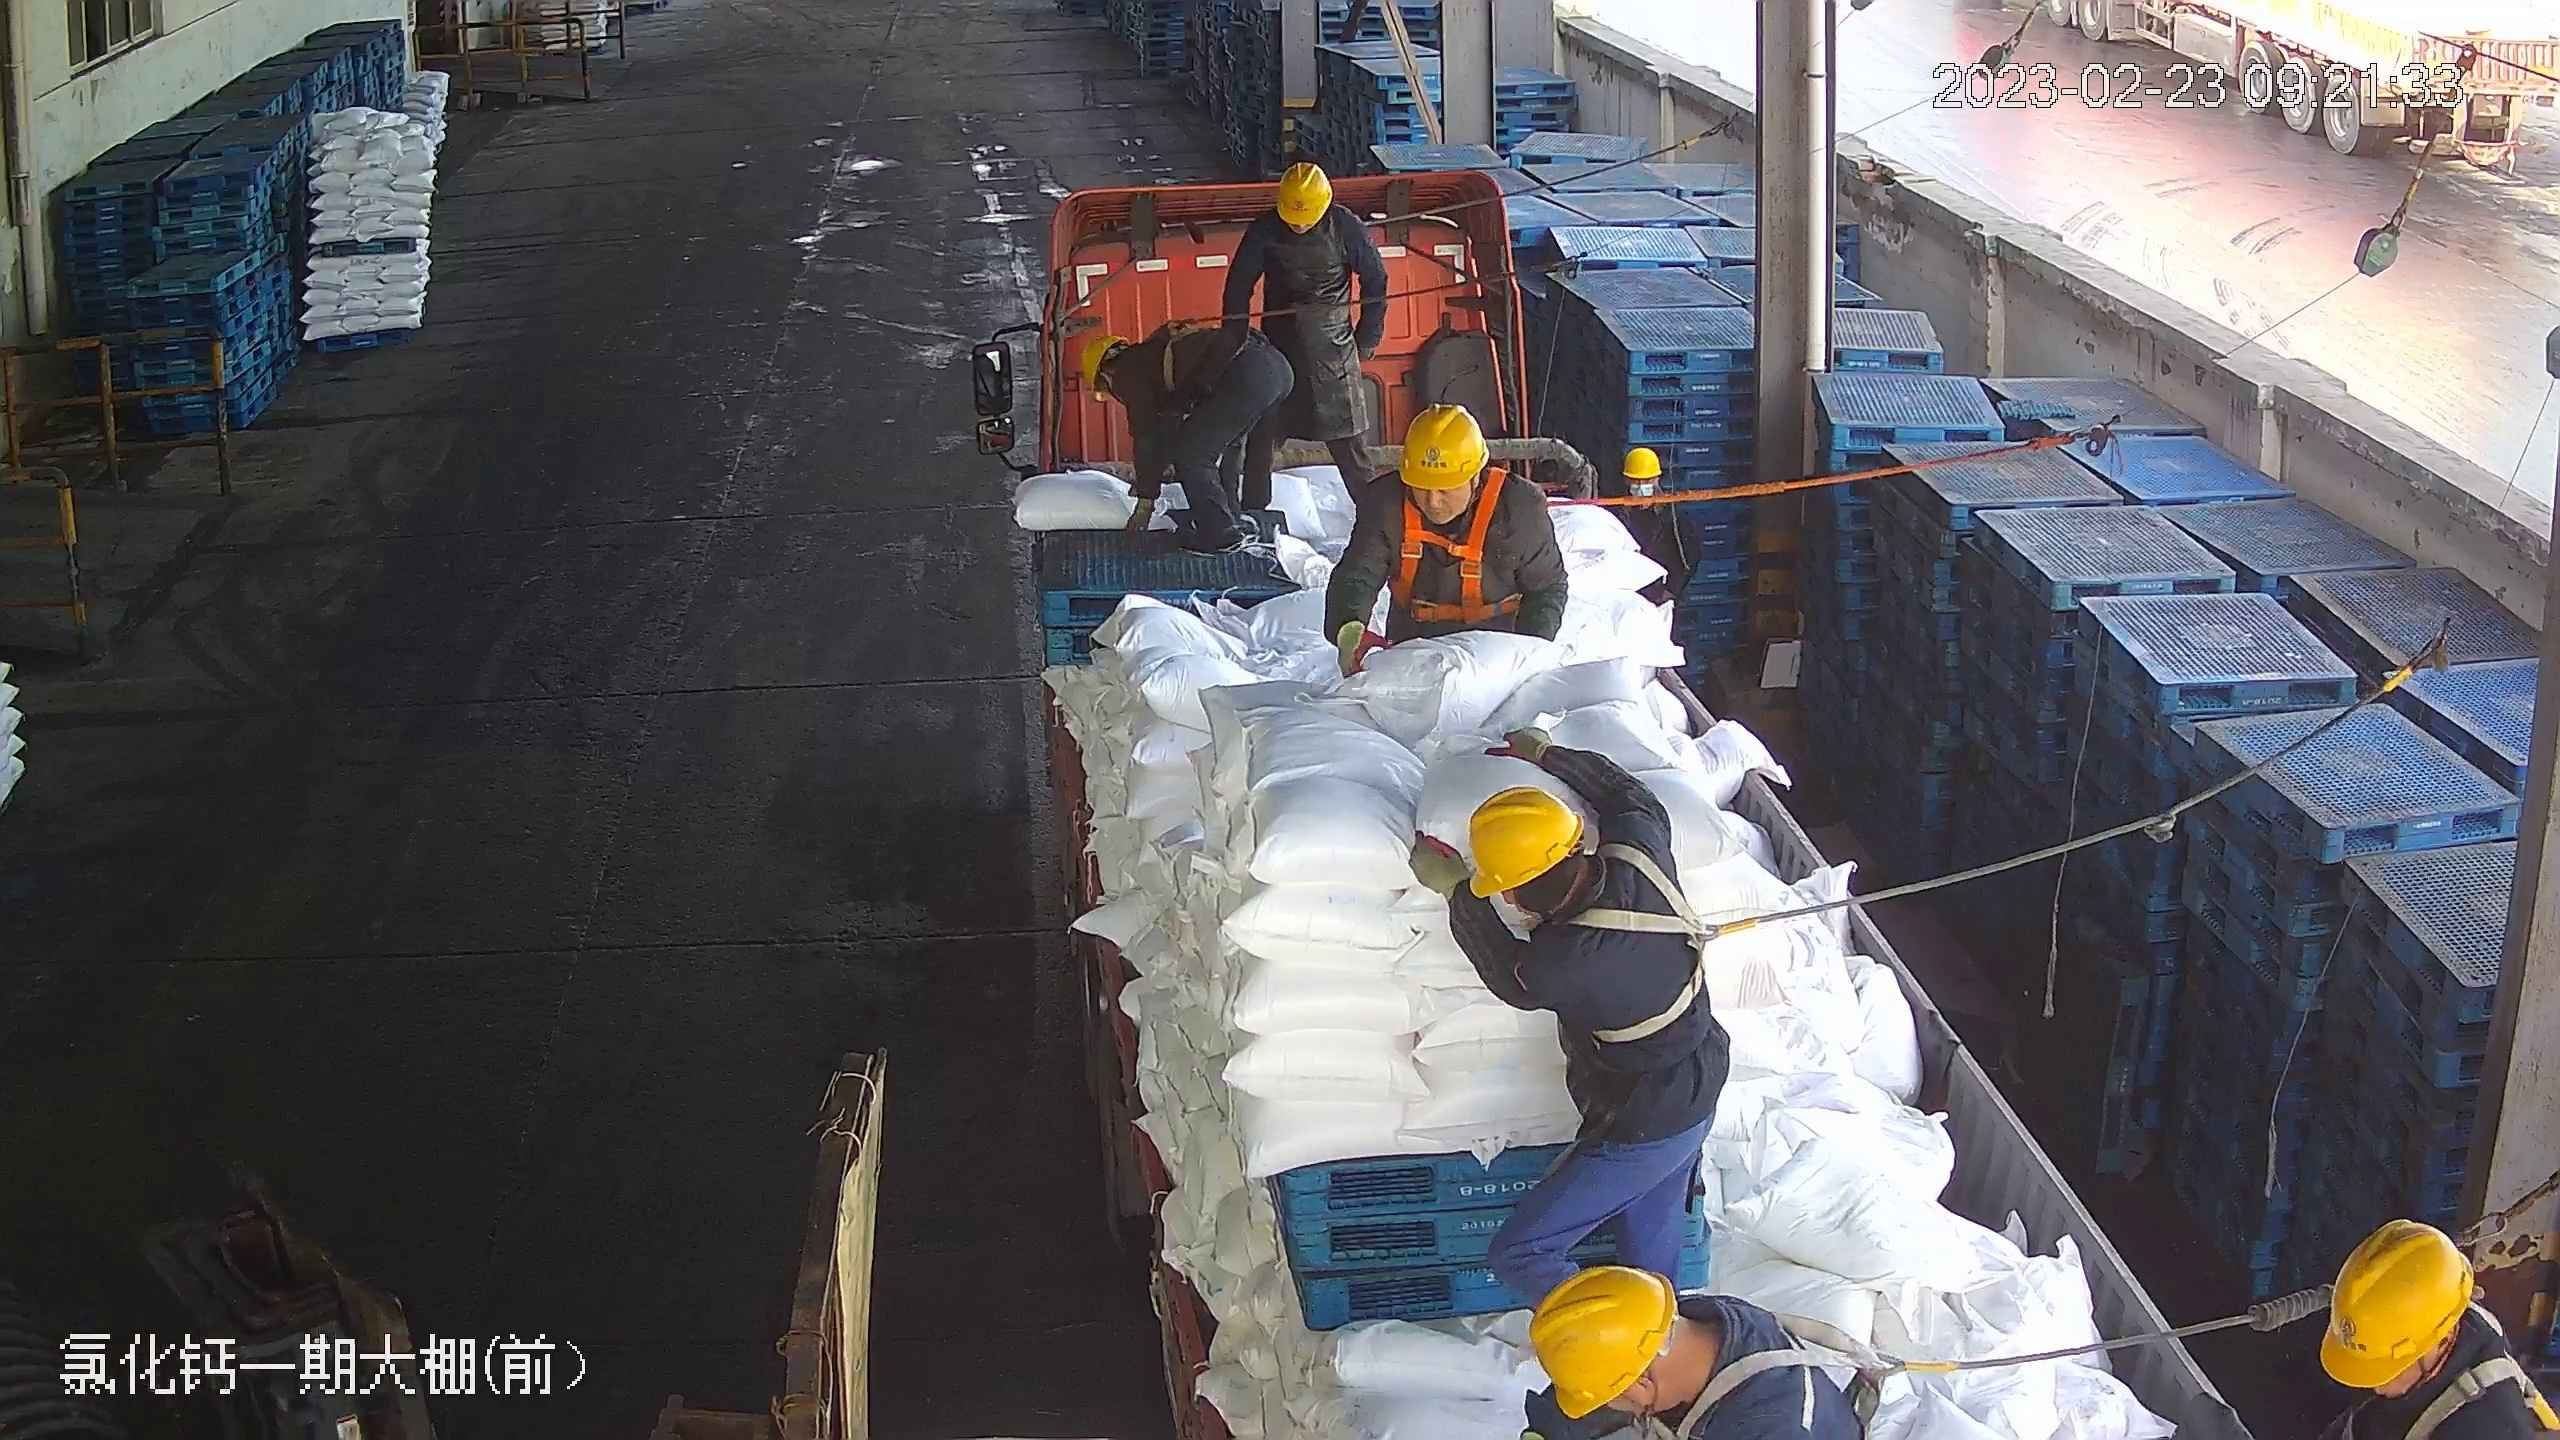belt: (1681, 1304, 1943, 1436), (1570, 848, 1719, 1057), (1385, 475, 1527, 634), (2408, 1290, 2549, 1440), (1140, 308, 1216, 393)
head: (1515, 1265, 1823, 1437), (1436, 779, 1697, 980), (1354, 403, 1549, 559), (1230, 158, 1379, 291), (1079, 325, 1196, 405)
helmet: (2320, 1216, 2478, 1389), (1524, 1262, 1684, 1423), (1454, 781, 1589, 894), (1397, 401, 1488, 488), (1274, 162, 1336, 228), (1081, 329, 1119, 382), (1617, 443, 1665, 481)
people: (1428, 774, 1727, 1279), (1329, 394, 1571, 682), (1226, 159, 1383, 512), (1081, 322, 1284, 542)
truck: (982, 187, 2251, 1433)
